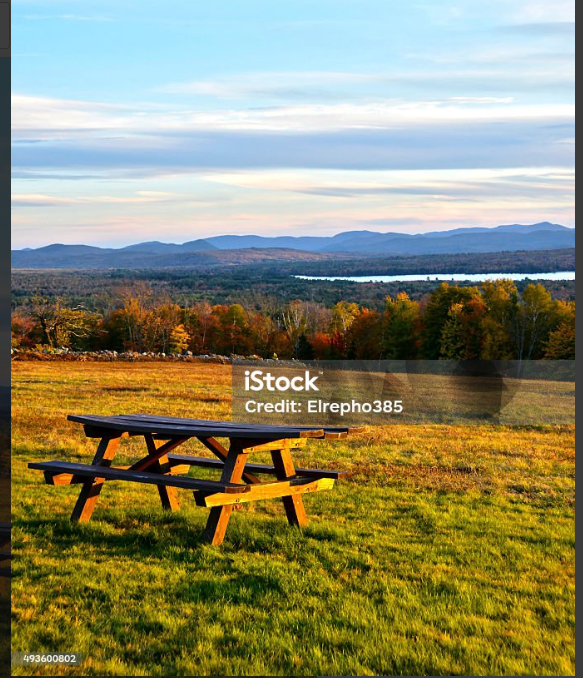obstacle: (37, 403, 345, 558)
